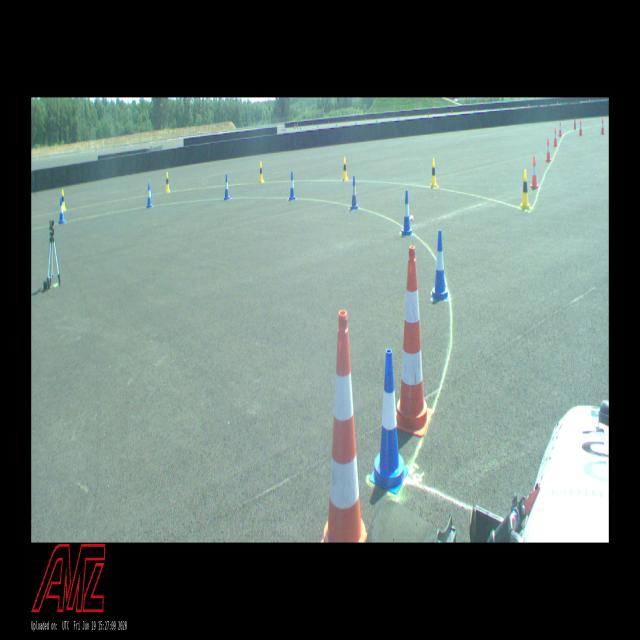blue_cone: (369, 350, 408, 494), (432, 229, 448, 300), (402, 191, 412, 235), (349, 176, 358, 209), (288, 172, 296, 200), (58, 198, 65, 224), (224, 174, 230, 200), (146, 183, 152, 207)
large_orange_cone: (320, 310, 367, 542), (396, 245, 432, 437)
orange_cone: (530, 157, 538, 189), (546, 138, 552, 162), (553, 128, 558, 146), (600, 119, 604, 134), (578, 120, 582, 135), (558, 121, 562, 136)
yellow_cone: (520, 169, 530, 209), (429, 158, 439, 188), (342, 157, 348, 180), (259, 162, 264, 182), (62, 189, 66, 210), (166, 173, 170, 192)
